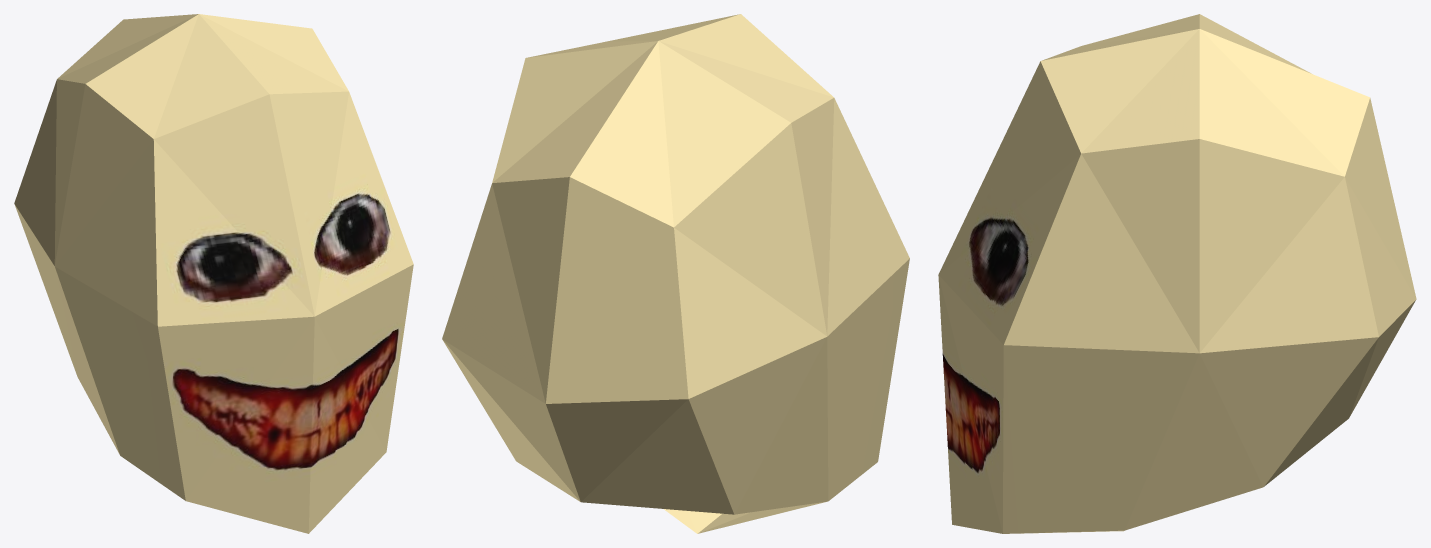
The model's file is golova.fbx.
3 renders of one model, left to right at view 1: azimuth 30°, elevation 25°; view 2: azimuth 150°, elevation 25°; view 3: azimuth 270°, elevation 25°, orthographic. The views are drawn at different scales.
Parts seen in each view (by area): view 1: Cube.002; view 2: Cube.002; view 3: Cube.002.
Part boxes in pixels (left/top/right/bottom): Cube.002: left=14, top=14, right=413, bottom=533; Cube.002: left=442, top=14, right=909, bottom=533; Cube.002: left=938, top=14, right=1416, bottom=533.
Size of the model in its own units: 90.57 by 134 by 115.
